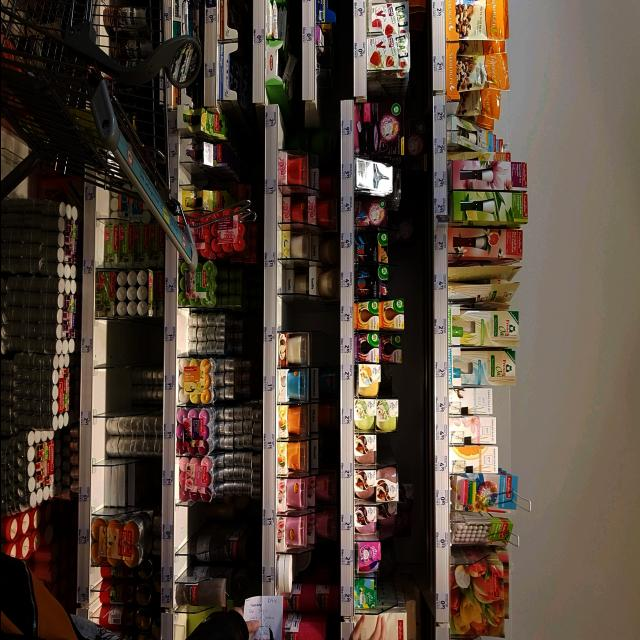empty_space: (99, 322, 162, 366), (95, 368, 127, 412), (278, 301, 322, 328), (177, 508, 210, 536)
